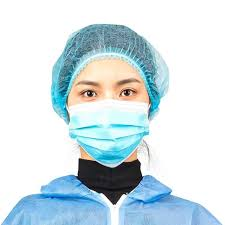with_mask_and_cap: (62, 25, 156, 168)
